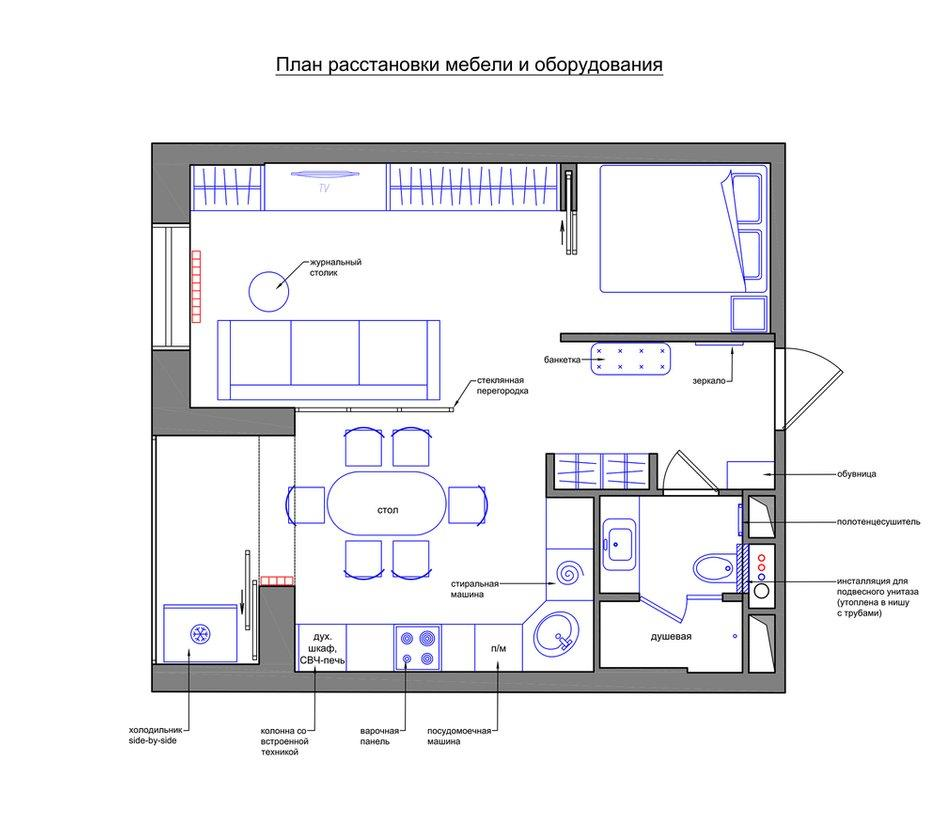bathroom: (600, 495, 742, 674)
bedroom: (576, 160, 772, 332)
hallway: (554, 341, 774, 490)
kitchen: (154, 410, 595, 672)
living_room: (191, 162, 563, 407)
